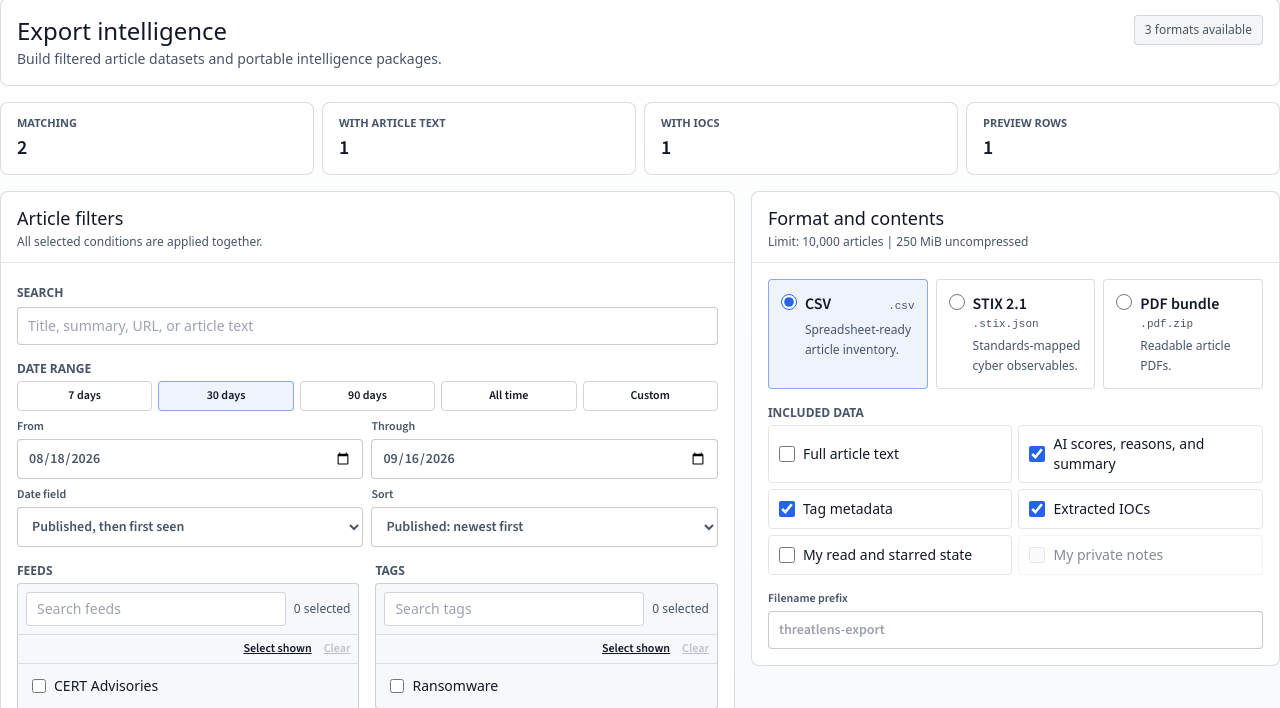
Scenario: ExportPage › downloads the generated artifact with the server-provided filename
Click the checkbox labelled "Full article text": (787, 454) x1=779 y1=446 x2=795 y2=462
(page scrolled)
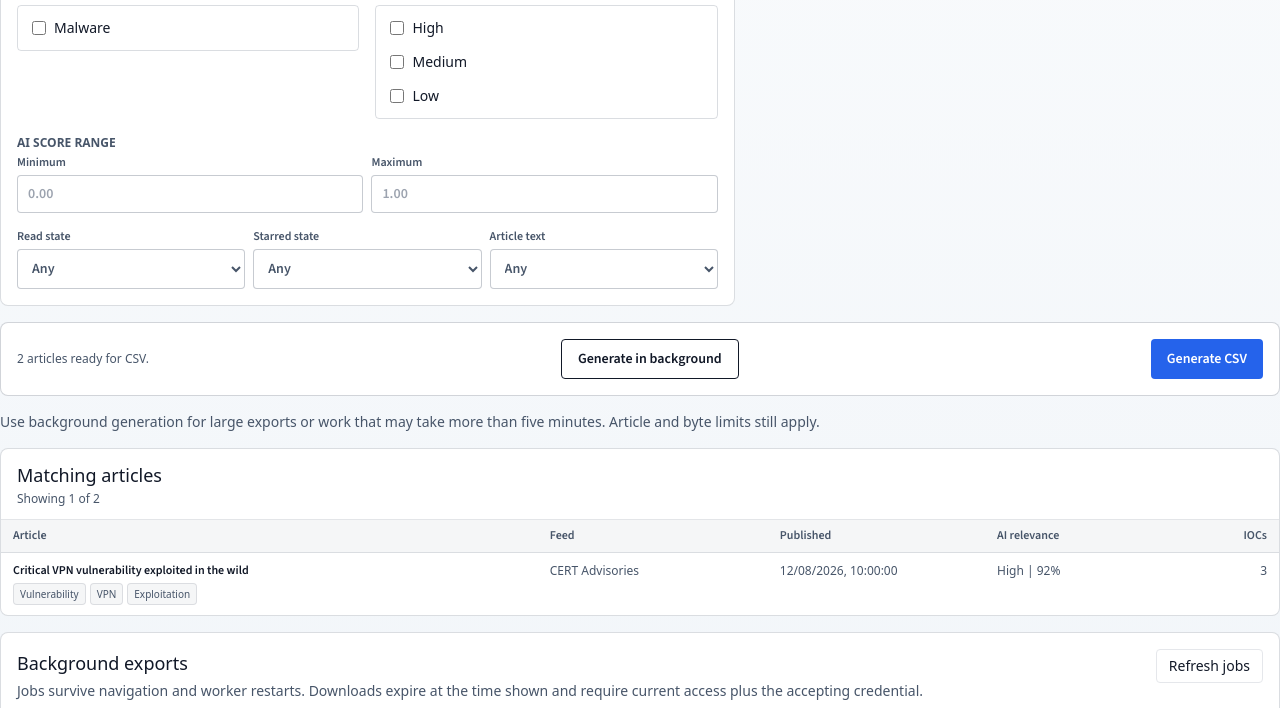
Click the button "Generate CSV": (1207, 358) x1=1151 y1=338 x2=1263 y2=378
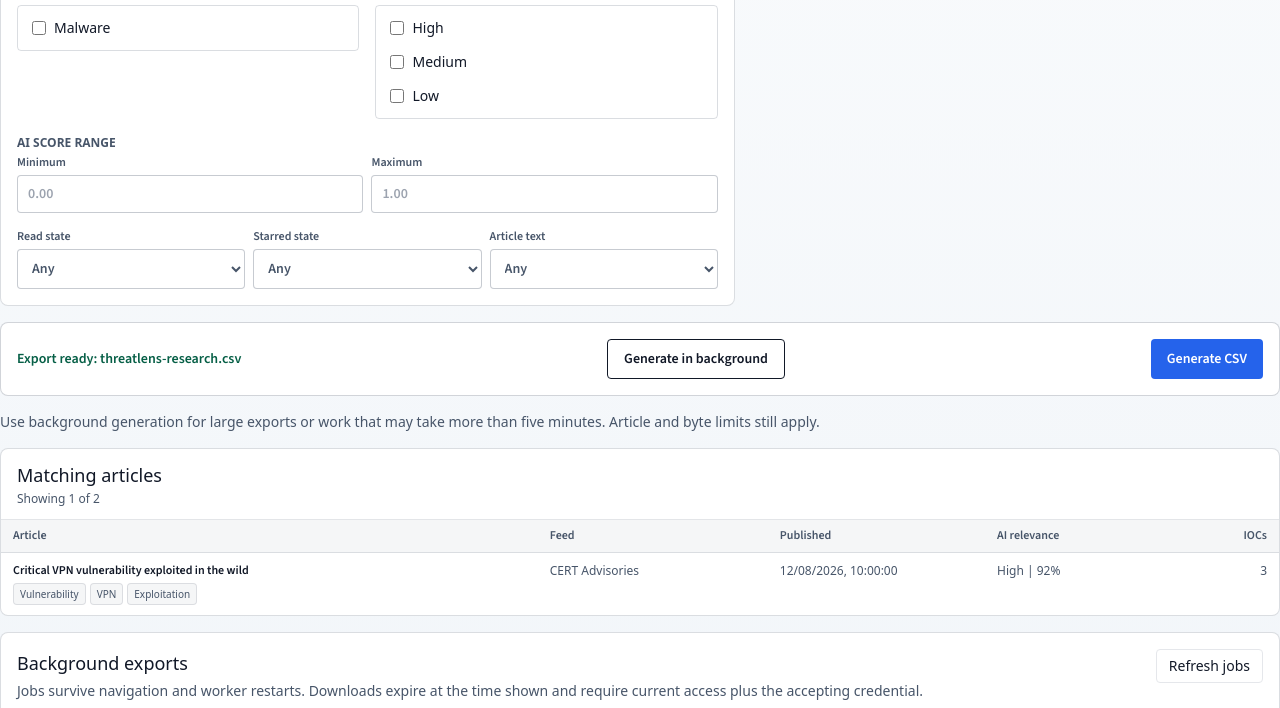
Check: the text "Export ready: threatlens-research.csv" is shown, box x1=17 y1=348 x2=241 y2=368
